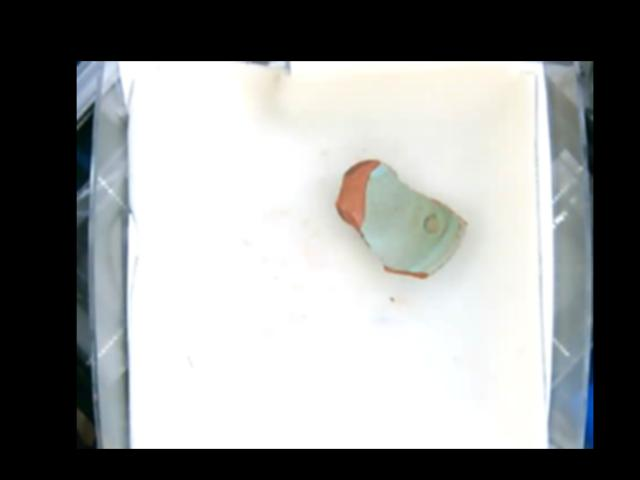China: (335, 158, 467, 278)
